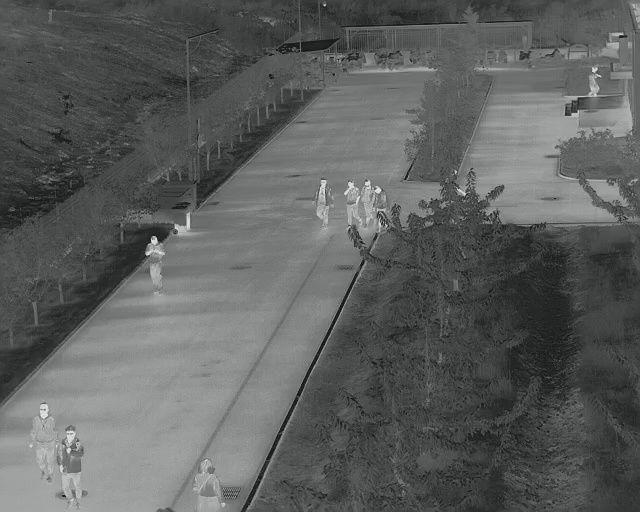person: (57, 424, 86, 509), (30, 402, 57, 486), (191, 457, 227, 512), (144, 234, 169, 296), (310, 176, 336, 230), (341, 178, 362, 229), (361, 177, 374, 228), (373, 183, 390, 219), (586, 66, 602, 98)
